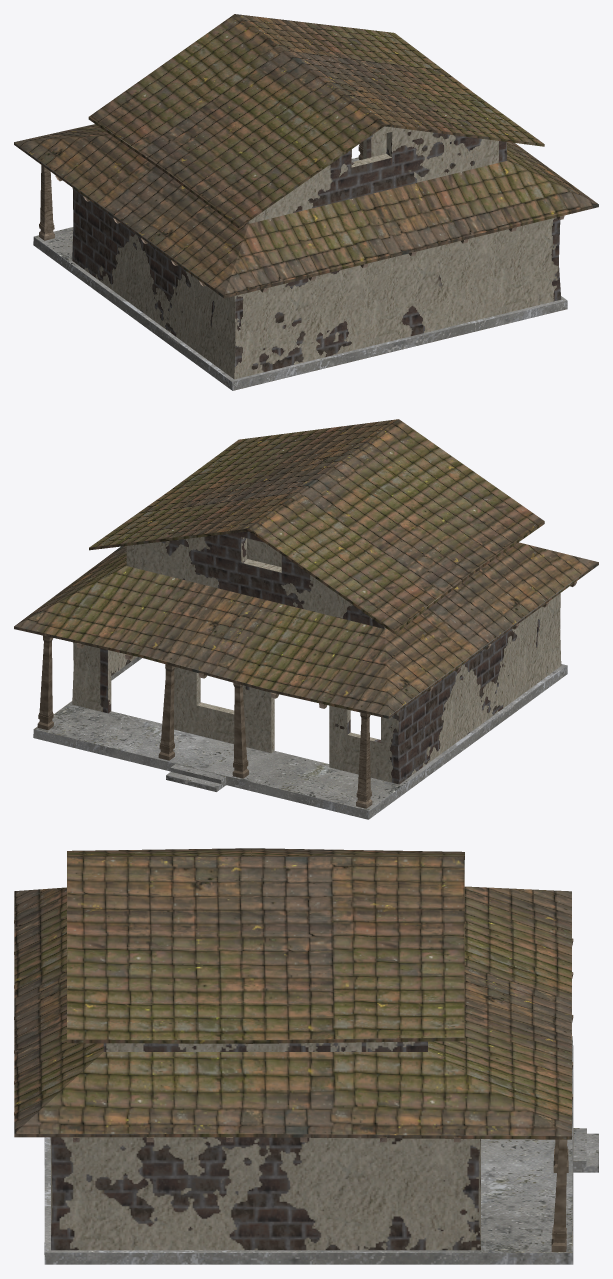
File: indian_house_-_gameasset.glb
The picture shows the model from 3 angles, top to bottom: view 1: azimuth 30°, elevation 25°; view 2: azimuth 150°, elevation 25°; view 3: azimuth 270°, elevation 25°; orthographic projection. The views are drawn at different scales.
Parts seen in each view (by area): view 1: building_001.002; view 2: building_001.002; view 3: building_001.002.
Part boxes in pixels (x1,y1,x2,y2): building_001.002: (14,14,598,390); building_001.002: (14,419,598,819); building_001.002: (14,848,598,1264).
Size of the model in its own units: 8.96 by 5.06 by 9.11.
Materials: 1 (1 with a texture image).
